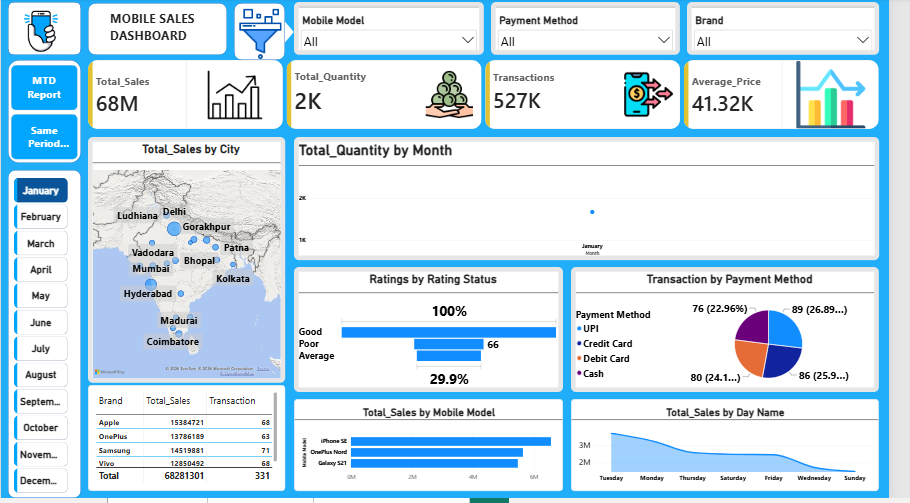

Layout of this report page (visuals, bound fields, positions):
{"tool":"powerbi","page":{"name":"Dashborad","canvas":[1920,1080],"ordinal":0},"visuals":[{"type":"shape","box":[15.1,8.6,157.7,114.5],"z":0},{"type":"image","box":[28.1,25.9,116.6,97.2],"z":1000},{"type":"shape","box":[15.1,371.5,157.7,708.5],"z":2000},{"type":"advancedSlicerVisual","fields":{"Values":["Custom_Calender.Date.Variation.Date Hierarchy.Month"]},"box":[28.1,388.8,116.6,691.2],"z":3000},{"type":"cardVisual","fields":{"Data":["Sales_Data.Total_Sales","Sales_Data.Total_Quantity","Sum(Sales_Data.Transaction ID)","Sales_Data.Average_Price"]},"box":[187.9,133.9,1708.6,149],"z":4000},{"type":"slicer","fields":{"Values":["Sales_Data.Mobile Model"]},"box":[632.9,8.6,410.4,114.5],"z":5000},{"type":"slicer","fields":{"Values":["Sales_Data.Payment Method"]},"box":[1058.4,8.6,408.2,114.5],"z":6000},{"type":"slicer","fields":{"Values":["Sales_Data.Brand"]},"box":[1481.8,8.6,414.7,114.5],"z":7000},{"type":"shape","box":[563.8,32.4,69.1,82.1],"z":8000},{"type":"shape","box":[15.1,133.9,157.7,222.5],"z":9000},{"type":"shape","box":[503.3,10.8,110.2,123.1],"z":10000},{"type":"image","box":[503.3,21.6,114.5,112.3],"z":11000},{"type":"shape","box":[187.9,10.8,300.2,112.3],"z":12000},{"type":"textbox","box":[235.4,25.9,200.9,86.4],"z":13000},{"type":"map","fields":{"Category":["Sales_Data.City"],"Size":["Sales_Data.Total_Sales"]},"box":[187.9,300.2,425.5,531.4],"z":14000},{"type":"funnel","title":"Ratings by  Rating Status","fields":{"Y":["CountNonNull(Sales_Data.Customer Ratings)"],"Category":["Sales_Data.Rating_Status"]},"box":[632.9,581,581,270],"z":15000},{"type":"lineChart","fields":{"Category":["Custom_Calender.Date.Variation.Date Hierarchy.Month"],"Y":["Sales_Data.Total_Quantity"]},"box":[632.9,300.2,1263.6,265.7],"z":16000},{"type":"pieChart","fields":{"Y":["Sales_Data.Transaction"],"Category":["Sales_Data.Payment Method"]},"box":[1231.2,581,665.3,270],"z":17000},{"type":"clusteredBarChart","fields":{"Category":["Sales_Data.Mobile Model"],"Y":["Sales_Data.Total_Sales"]},"box":[632.9,866.2,581,198.7],"z":18000},{"type":"areaChart","fields":{"Y":["Sales_Data.Total_Sales"],"Category":["Custom_Calender.Day Name"]},"box":[1231.2,866.2,665.3,198.7],"z":19000},{"type":"tableEx","fields":{"Values":["Sales_Data.Brand","Sales_Data.Total_Sales","Sales_Data.Transaction"]},"box":[187.9,835.9,425.5,229],"z":20000},{"type":"pageNavigator","box":[21.6,144.7,144.7,205.2],"z":21000}]}

Visuals, with their boxes in screenshot pixels (x1, y1, x2, y2), scaled from the page's 1920x1080 canvas onto the 910x503 screenshot:
shape: select_region(7, 4, 82, 57)
image: select_region(13, 12, 69, 57)
shape: select_region(7, 173, 82, 502)
advancedSlicerVisual - Custom_Calender.Date.Variation.Date Hierarchy.Month: select_region(13, 181, 69, 502)
cardVisual - Sales_Data.Total_Sales x Sales_Data.Total_Quantity: select_region(89, 62, 899, 132)
slicer - Sales_Data.Mobile Model: select_region(300, 4, 494, 57)
slicer - Sales_Data.Payment Method: select_region(502, 4, 695, 57)
slicer - Sales_Data.Brand: select_region(702, 4, 899, 57)
shape: select_region(267, 15, 300, 53)
shape: select_region(7, 62, 82, 166)
shape: select_region(239, 5, 291, 62)
image: select_region(239, 10, 293, 62)
shape: select_region(89, 5, 231, 57)
textbox: select_region(112, 12, 207, 52)
map - Sales_Data.City x Sales_Data.Total_Sales: select_region(89, 140, 291, 387)
"Ratings by  Rating Status" funnel: select_region(300, 271, 575, 396)
lineChart - Custom_Calender.Date.Variation.Date Hierarchy.Month x Sales_Data.Total_Quantity: select_region(300, 140, 899, 264)
pieChart - Sales_Data.Transaction x Sales_Data.Payment Method: select_region(584, 271, 899, 396)
clusteredBarChart - Sales_Data.Mobile Model x Sales_Data.Total_Sales: select_region(300, 403, 575, 496)
areaChart - Sales_Data.Total_Sales x Custom_Calender.Day Name: select_region(584, 403, 899, 496)
tableEx - Sales_Data.Brand x Sales_Data.Total_Sales: select_region(89, 389, 291, 496)
pageNavigator: select_region(10, 67, 79, 163)
